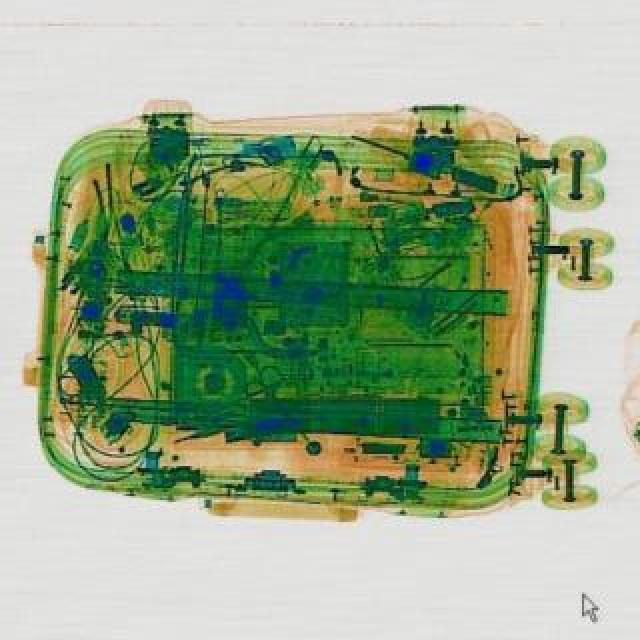pliers: (234, 358, 330, 450)
